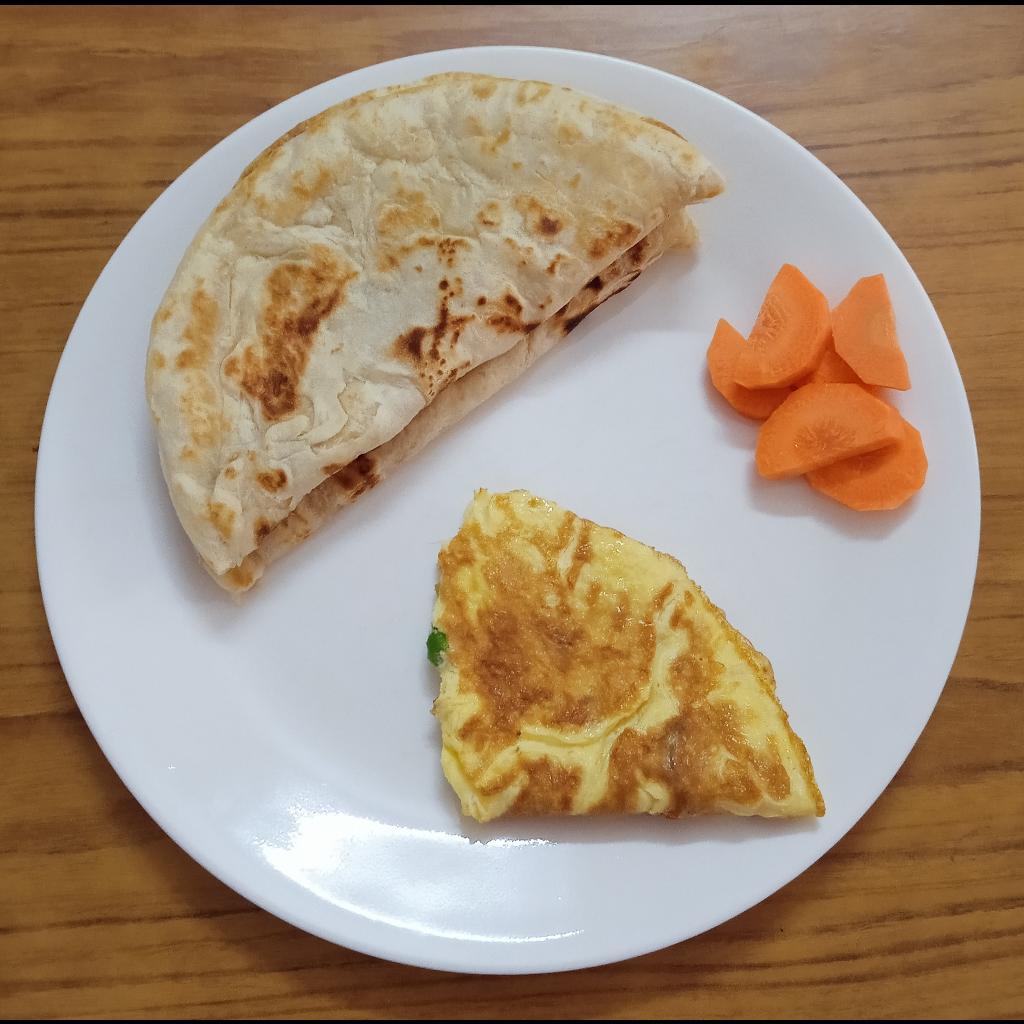carrot: (705, 262, 928, 511)
egg-poached: (425, 485, 827, 822)
ruti: (142, 71, 730, 600)
